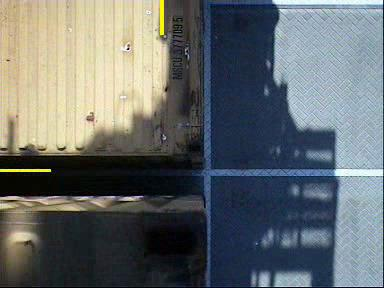groundmarker_2: (176, 131, 243, 173), (179, 193, 246, 235)
